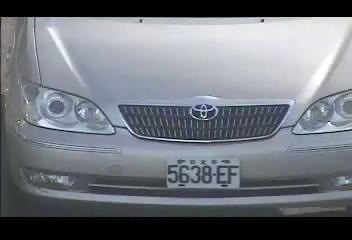plate: (163, 156, 242, 191)
